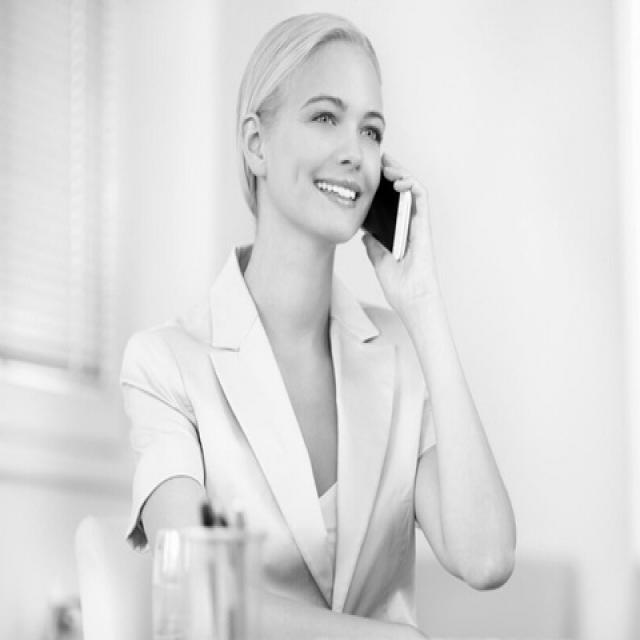phone: (344, 101, 441, 274)
